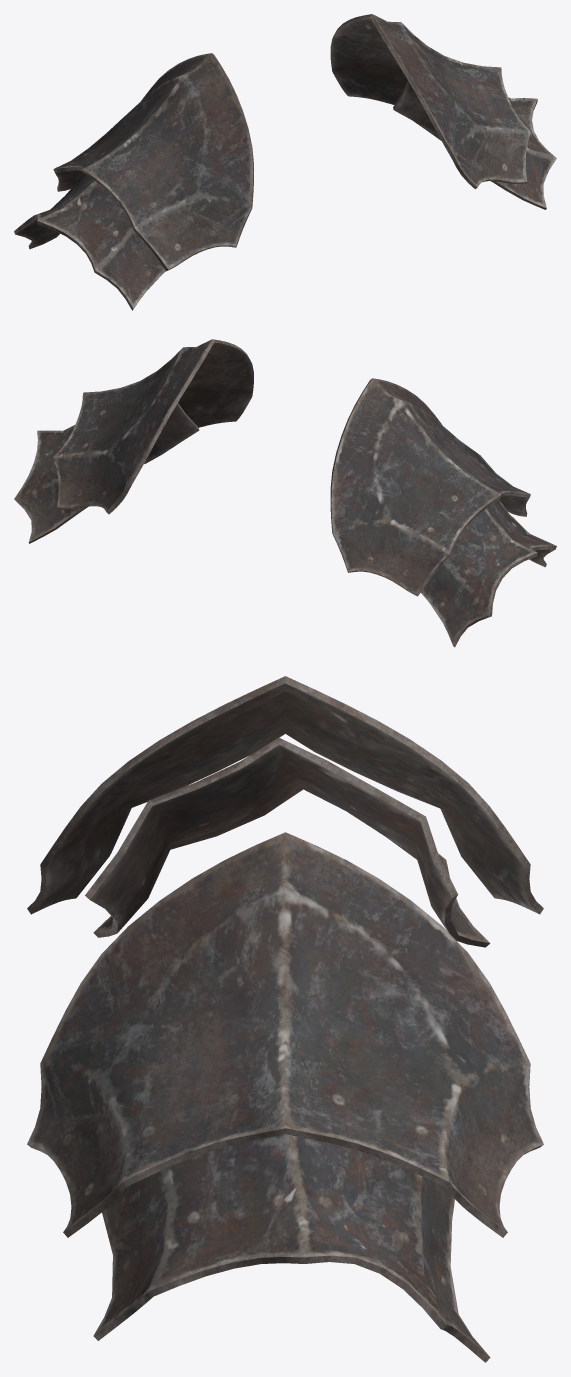
The model's file is sk_dg_uruk_pauldron_heavy_c.fbx.
The picture shows the model from 3 angles, top to bottom: view 1: azimuth 30°, elevation 25°; view 2: azimuth 150°, elevation 25°; view 3: azimuth 270°, elevation 25°; orthographic projection. The views are drawn at different scales.
Visible parts, largest first — view 1: sk_dg_uruk_pauldron_heavy_c; view 2: sk_dg_uruk_pauldron_heavy_c; view 3: sk_dg_uruk_pauldron_heavy_c.
Boxes of the visible parts, box(x1,y1,x2,y2) form: sk_dg_uruk_pauldron_heavy_c: box(14, 14, 556, 310); sk_dg_uruk_pauldron_heavy_c: box(14, 339, 556, 647); sk_dg_uruk_pauldron_heavy_c: box(27, 676, 543, 1362).
Size of the model in its own units: 0.7705 by 0.3448 by 0.2951.
Materials: 1 (1 with a texture image).
